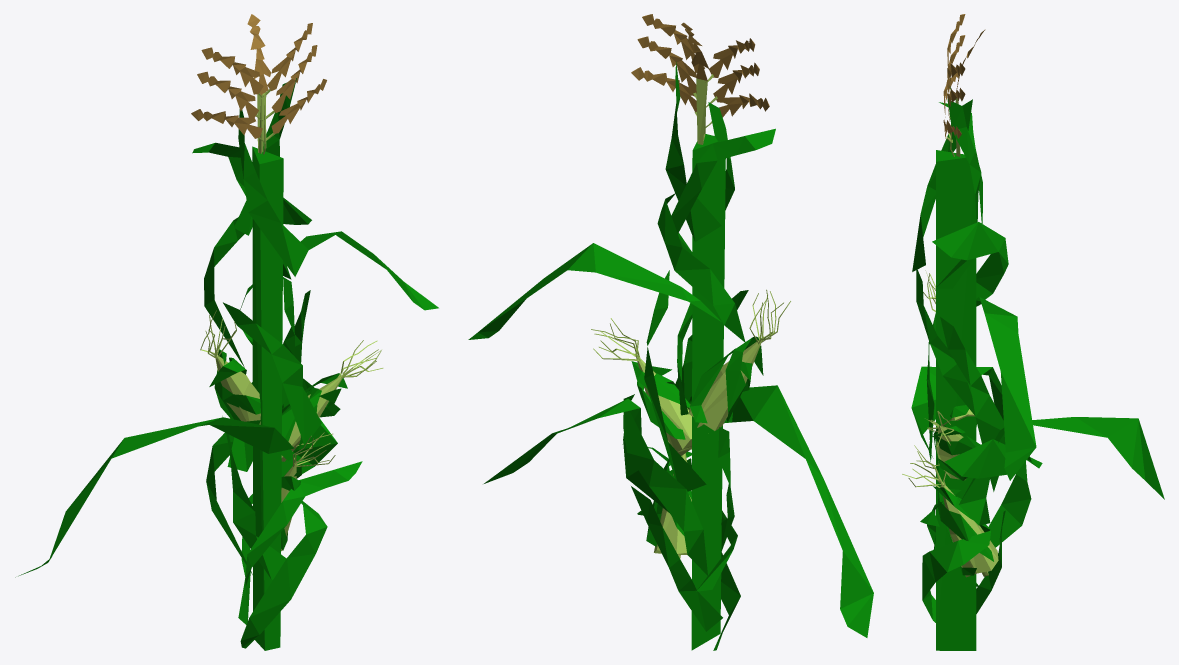
The model's file is Corn_4.fbx.
3 renders of one model, left to right at view 1: azimuth 30°, elevation 25°; view 2: azimuth 150°, elevation 25°; view 3: azimuth 270°, elevation 25°, orthographic.
Parts seen in each view (by area): view 1: Corn_4; view 2: Corn_4; view 3: Corn_4.
Part boxes in pixels (x1=…): Corn_4: x1=15, y1=14, x2=438, y2=650; Corn_4: x1=468, y1=14, x2=873, y2=650; Corn_4: x1=902, y1=14, x2=1164, y2=650.
Size of the model in its own units: 168 by 244 by 93.22.
